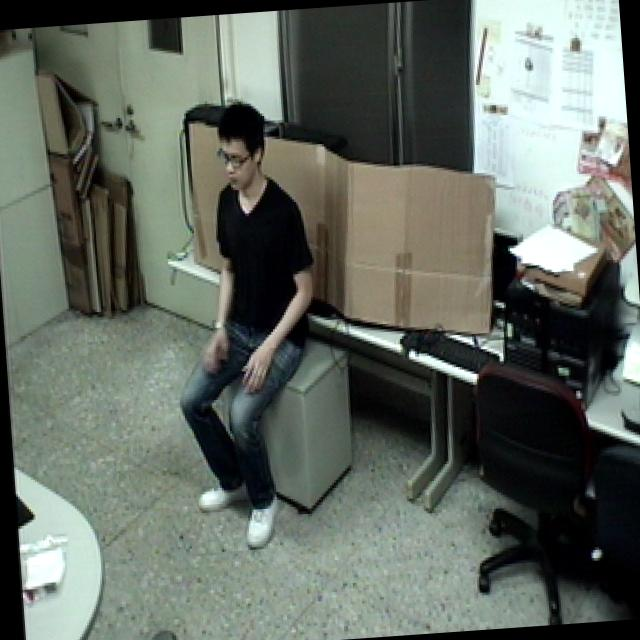sit: (145, 89, 340, 564)
